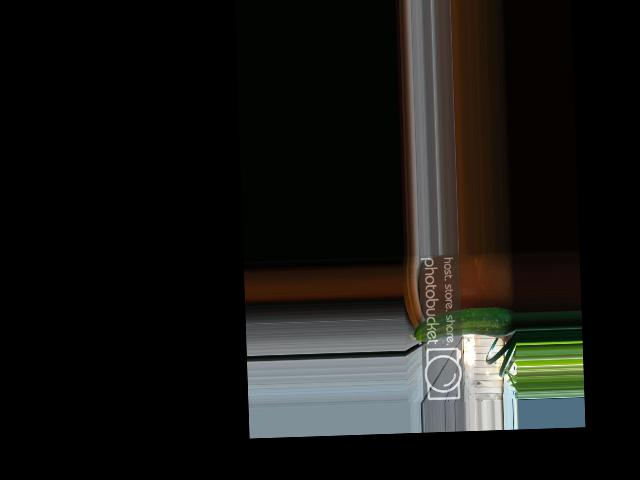cucumber: (408, 307, 515, 342)
